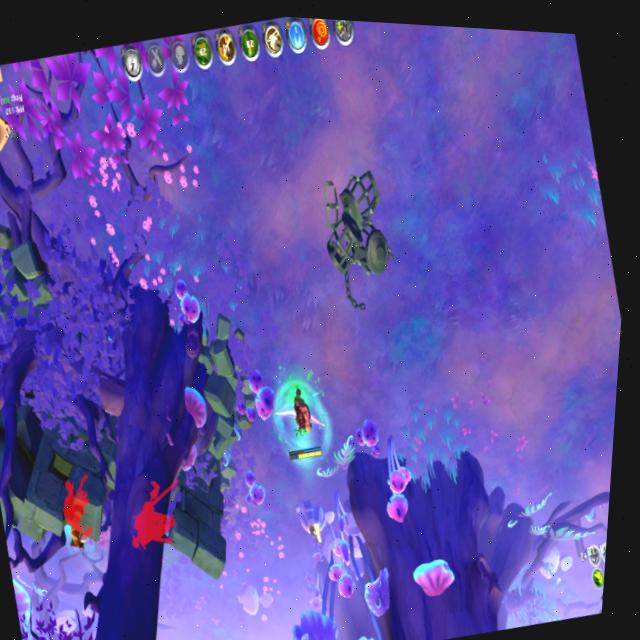ore: (114, 468, 195, 564), (48, 460, 110, 566)
red: (270, 381, 334, 471)
